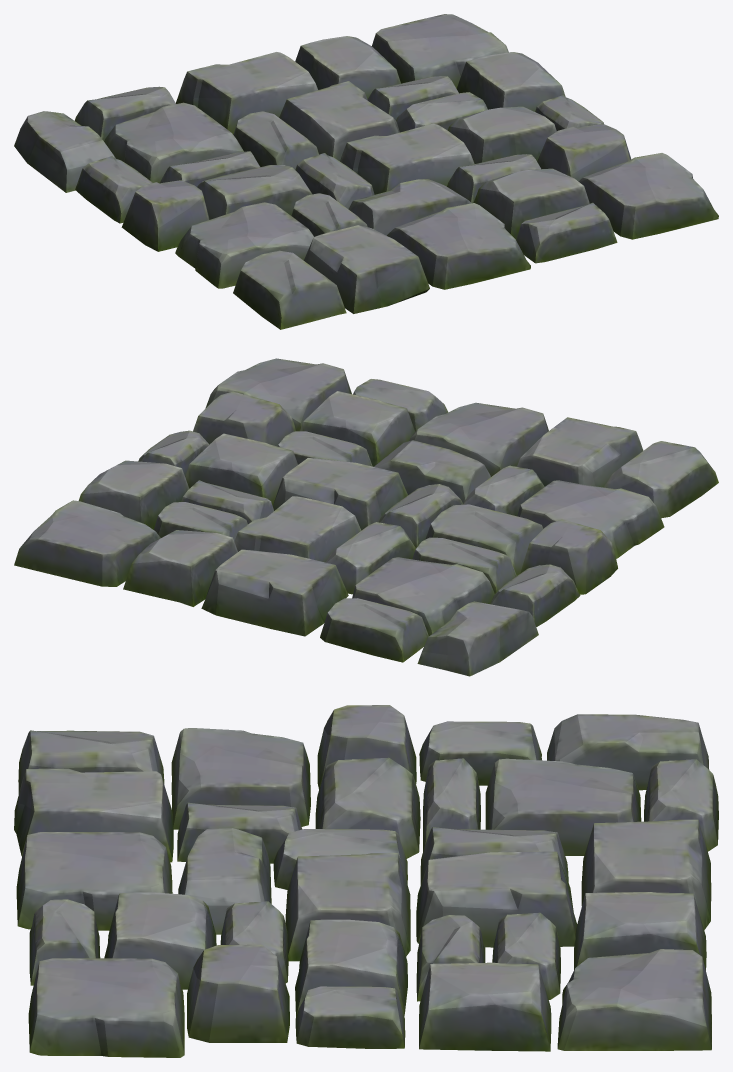
Rendered from Rock_Path_Square_Wide.glb.
3 views of the same model, one above another, from view 1: azimuth 30°, elevation 25°; view 2: azimuth 150°, elevation 25°; view 3: azimuth 270°, elevation 25° (orthographic). The views are drawn at different scales.
Visible parts, largest first — view 1: RockPath_Square_Wide; view 2: RockPath_Square_Wide; view 3: RockPath_Square_Wide.
Part boxes in pixels (<box>): RockPath_Square_Wide: <box>14,14,718,329</box>; RockPath_Square_Wide: <box>14,358,718,676</box>; RockPath_Square_Wide: <box>14,705,718,1057</box>.
Size of the model in its own units: 2.05 by 0.1763 by 1.99.
Materials: 1 (1 with a texture image).
